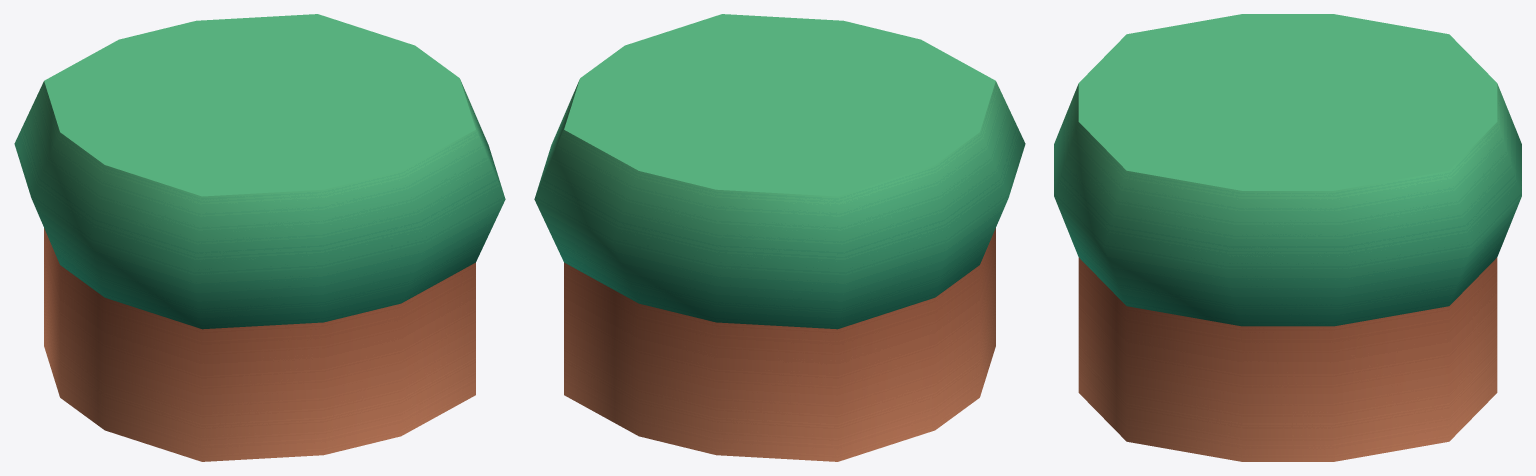
The model's file is block-grass-low-narrow.glb.
3 renders of one model, left to right at view 1: azimuth 30°, elevation 25°; view 2: azimuth 150°, elevation 25°; view 3: azimuth 270°, elevation 25°, orthographic. The views are drawn at different scales.
Parts seen in each view (by area): view 1: block-grass-low-narrow; view 2: block-grass-low-narrow; view 3: block-grass-low-narrow.
Boxes of the visible parts, x1,y1,x2,y2 form: block-grass-low-narrow: (14,14,505,461); block-grass-low-narrow: (534,14,1025,461); block-grass-low-narrow: (1054,14,1521,461).
Bounding box in the file's own units: 0.7821 × 0.5 × 0.7821.
1 material, 1 textured.
